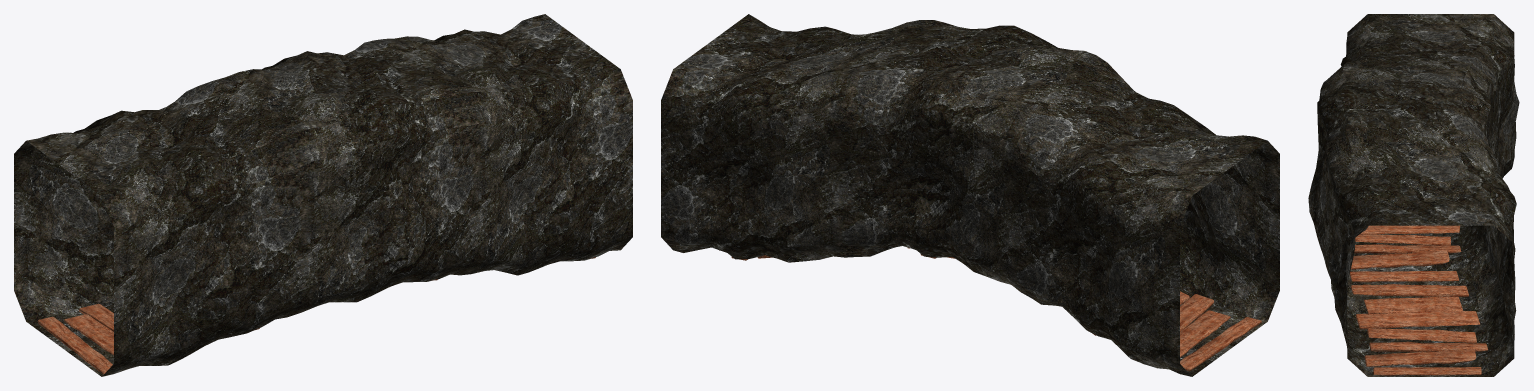
File: Cave_050.fbx
3 views of the same model, side by side, from view 1: azimuth 30°, elevation 25°; view 2: azimuth 150°, elevation 25°; view 3: azimuth 270°, elevation 25° (orthographic). The views are drawn at different scales.
Parts seen in each view (by area): view 1: Cave.050; view 2: Cave.050; view 3: Cave.050.
Part boxes in pixels (x1=…): Cave.050: x1=14, y1=14, x2=632, y2=376; Cave.050: x1=661, y1=14, x2=1279, y2=376; Cave.050: x1=1308, y1=14, x2=1519, y2=376.
Size of the model in its own units: 900 by 369 by 379.
